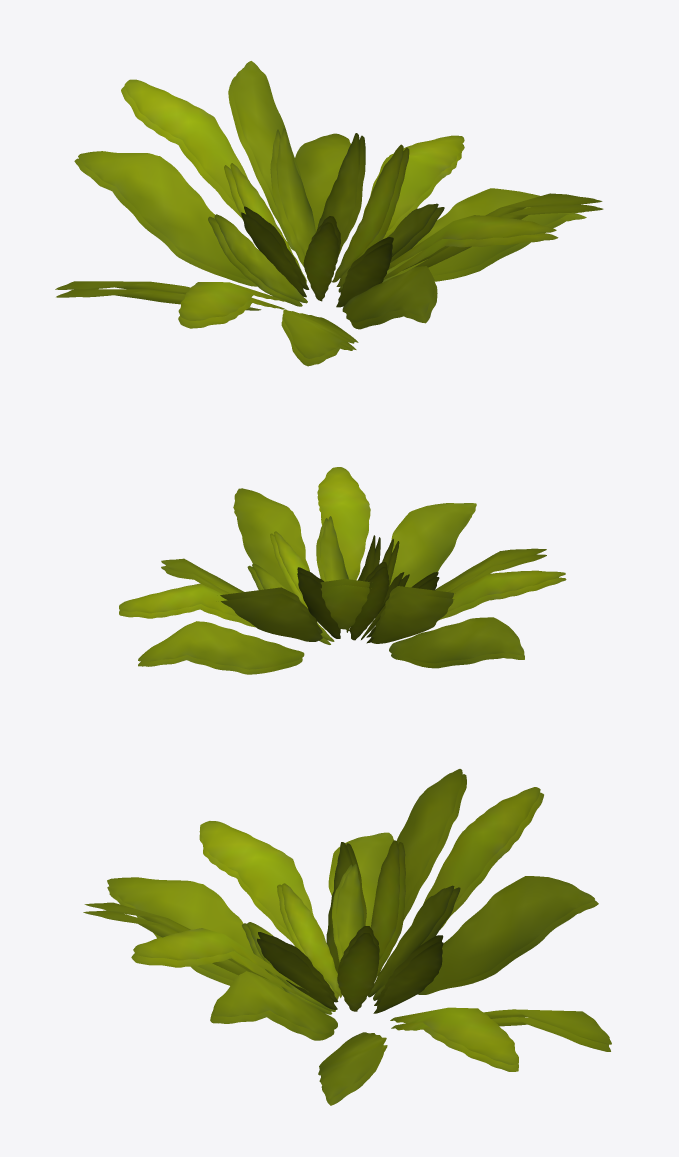
The model's file is newGrass.fbx.
The picture shows the model from 3 angles, top to bottom: view 1: azimuth 30°, elevation 25°; view 2: azimuth 150°, elevation 25°; view 3: azimuth 270°, elevation 25°; orthographic projection. The views are drawn at different scales.
Parts seen in each view (by area): view 1: grass_10; view 2: grass_10; view 3: grass_10.
Boxes of the visible parts, <box> form: grass_10: <box>55,61,603,366</box>; grass_10: <box>119,467,566,674</box>; grass_10: <box>83,769,611,1105</box>.
Size of what is drawn, in the model's own units: 0.1585 by 0.0569 by 0.1409.
